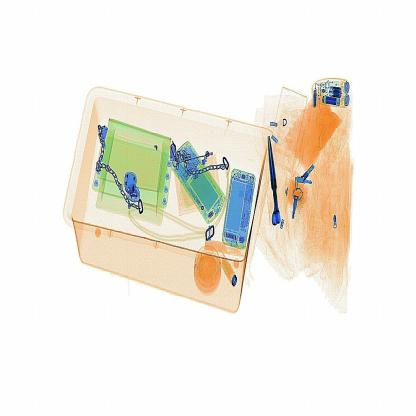gun: (265, 136, 288, 228)
